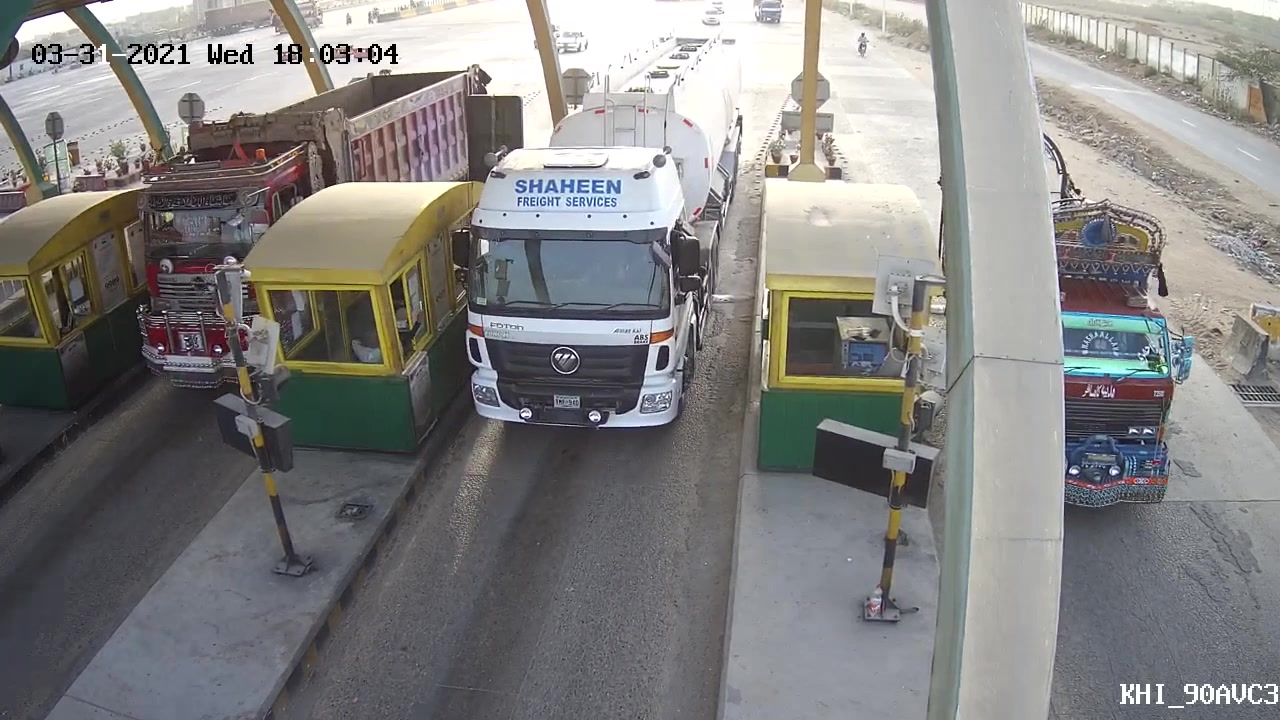F6: (451, 29, 751, 440)
